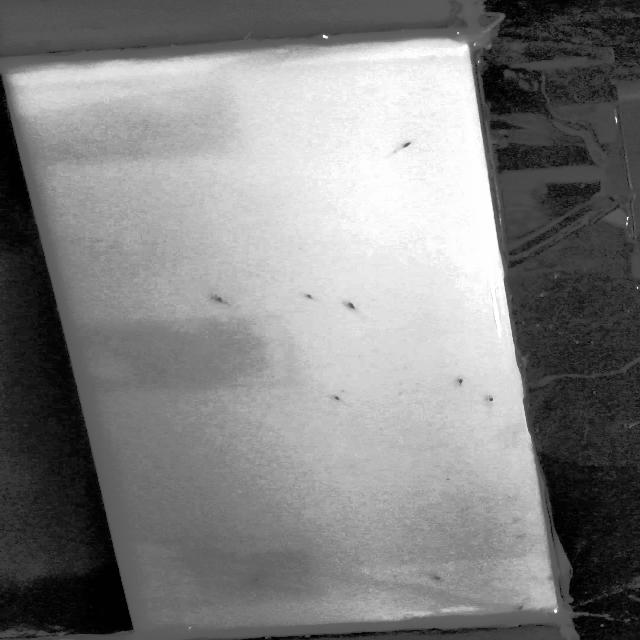shrimp: (385, 138, 418, 152), (237, 573, 272, 586), (198, 292, 228, 306), (294, 290, 320, 304), (478, 393, 502, 407), (447, 376, 472, 388), (425, 573, 450, 584), (338, 299, 361, 310), (327, 391, 345, 405)
